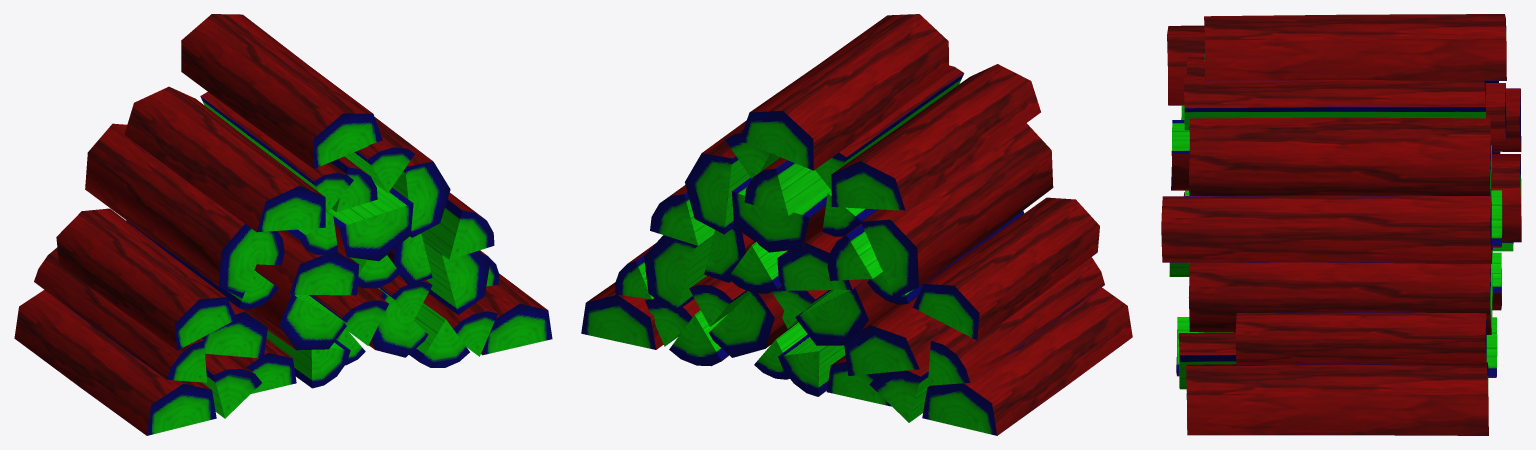
Rendered from FirewoodPile01.fbx.
3 views of the same model, side by side, from view 1: azimuth 30°, elevation 25°; view 2: azimuth 150°, elevation 25°; view 3: azimuth 270°, elevation 25° (orthographic). The views are drawn at different scales.
Parts seen in each view (by area): view 1: FirewoodPile01_LOD0; view 2: FirewoodPile01_LOD0; view 3: FirewoodPile01_LOD0.
Part boxes in pixels (x1,y1,x2,y2): FirewoodPile01_LOD0: [14, 14, 552, 435]; FirewoodPile01_LOD0: [581, 14, 1132, 435]; FirewoodPile01_LOD0: [1161, 14, 1521, 435].
Size of what is drawn, in the model's own units: 0.5699 by 0.3646 by 0.3843.
